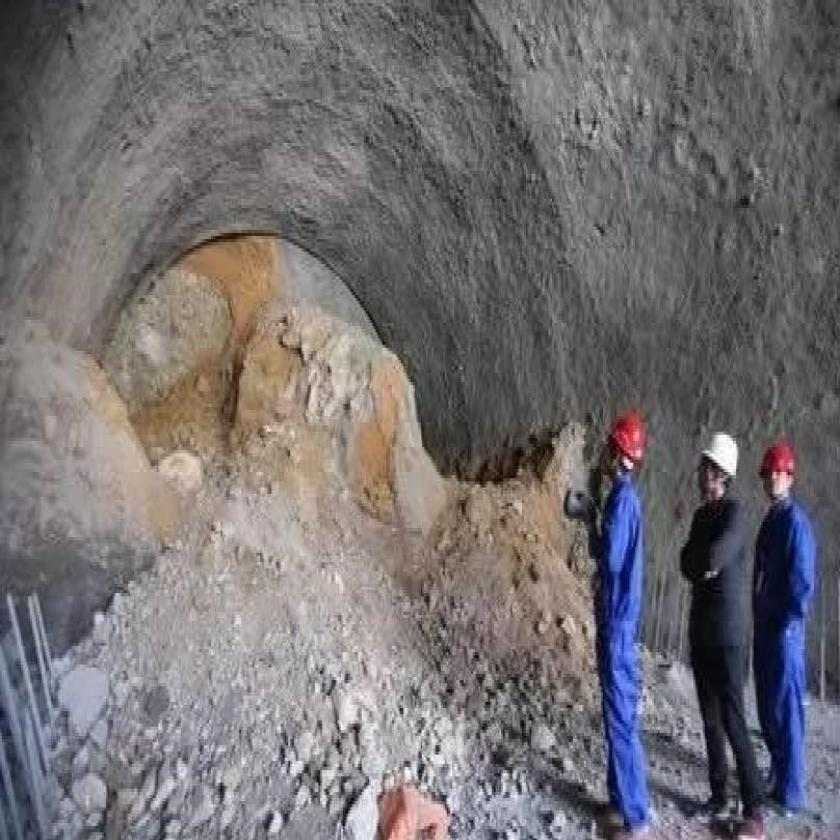Con_casco: (697, 423, 738, 515), (606, 408, 650, 487), (762, 429, 798, 507)
